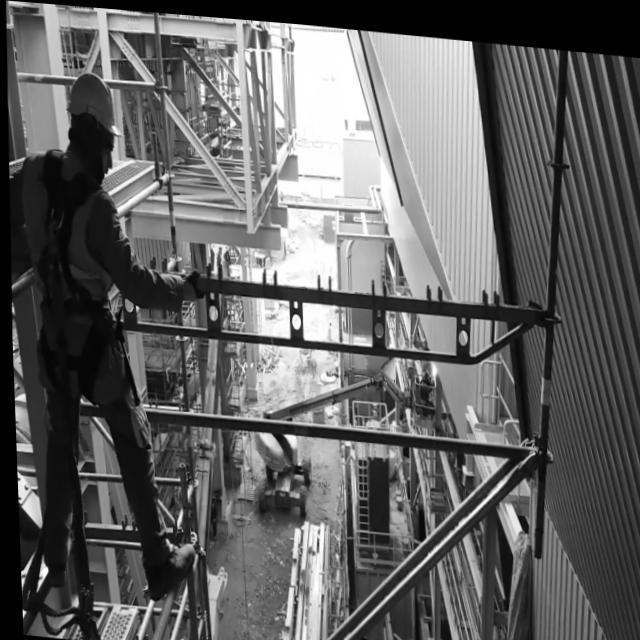belt: (18, 130, 135, 407), (94, 18, 96, 20)
